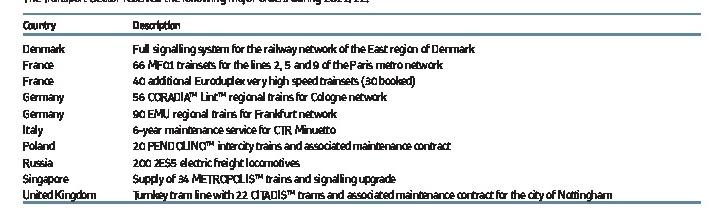table: (0, 0, 725, 224)
